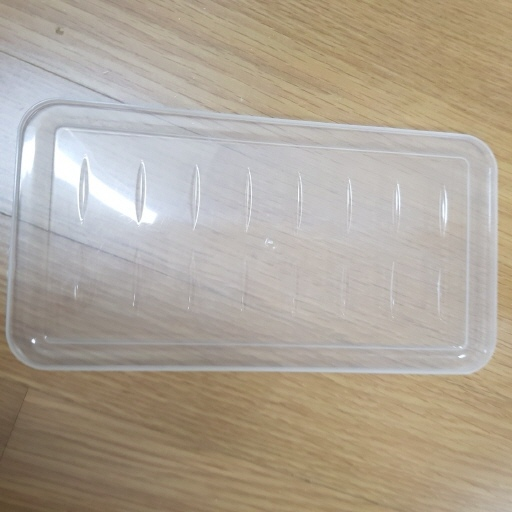Plastic_4: (8, 98, 500, 375)
